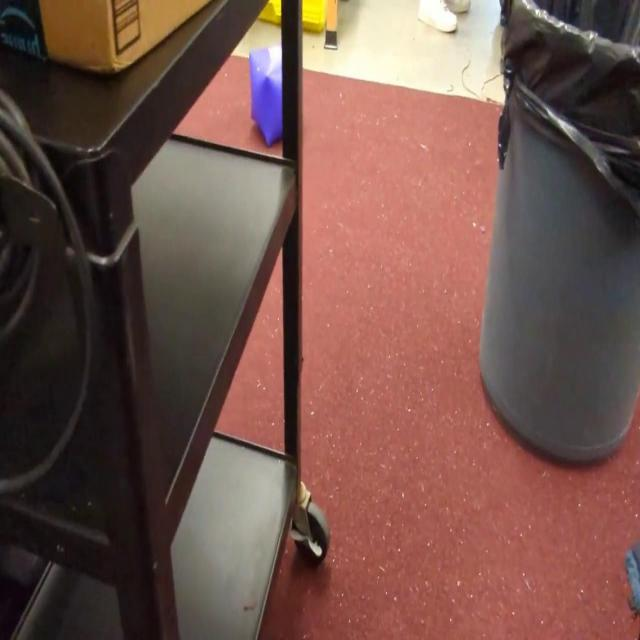frc_cube: (250, 44, 282, 145)
